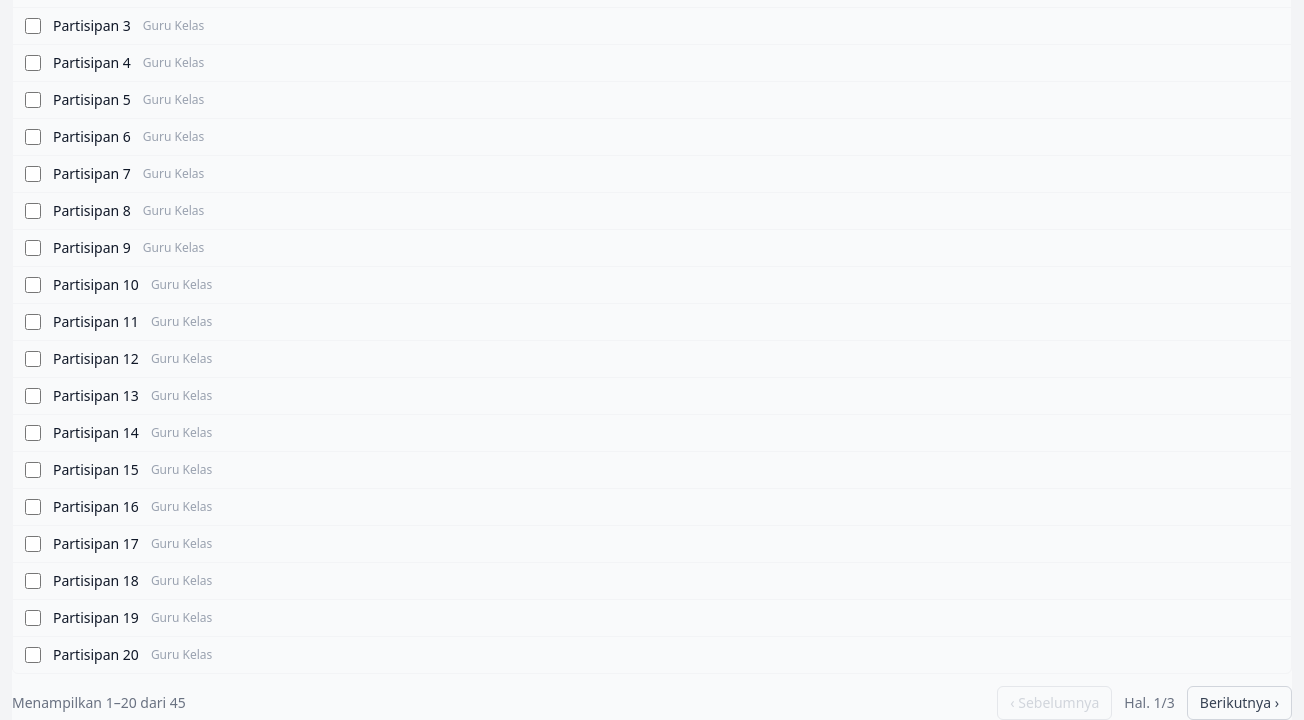
it: DaftarPilihTerpaginasi › 45 item → 20 baris + teks rentang; Berikutnya menampilkan baris 21–40
(page scrolled)
Expected: the text "Menampilkan 1–20 dari 45" is shown, [12, 693, 186, 713]
Step 1. Click the button "Berikutnya ›" → (1239, 703), box [1187, 686, 1292, 719]
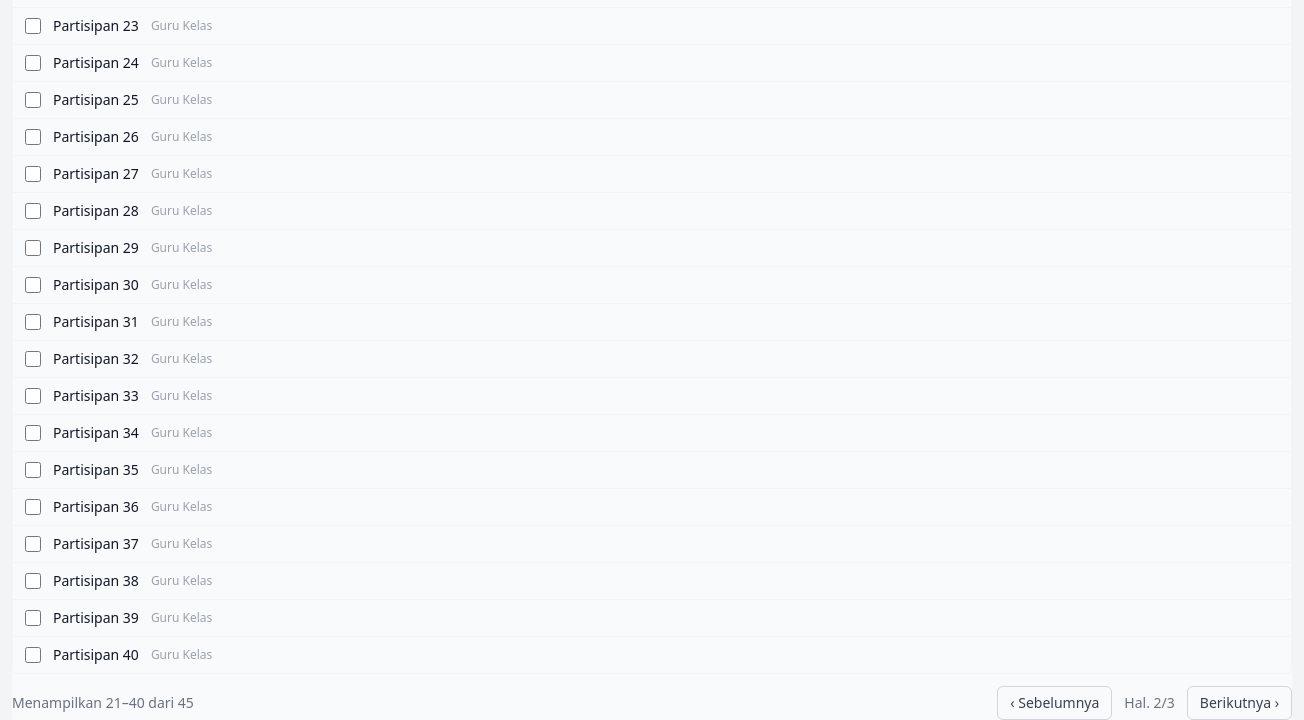
Expected: the text "Menampilkan 21–40 dari 45" is shown, [12, 693, 194, 713]
Expected: the text "Partisipan 40" is shown, [53, 645, 139, 665]
Expected: the text "Partisipan 1" is gone
